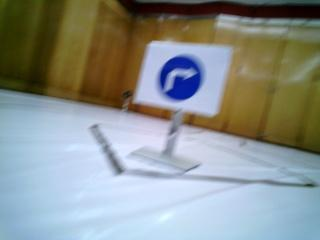right: (150, 42, 208, 104)
